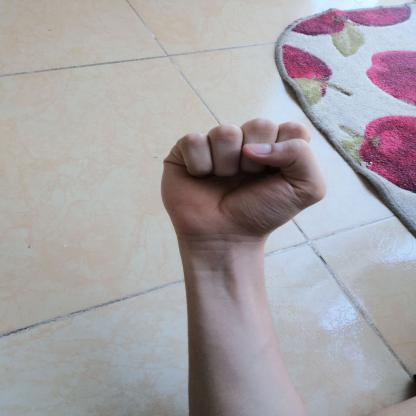SAD: (138, 100, 352, 262)
